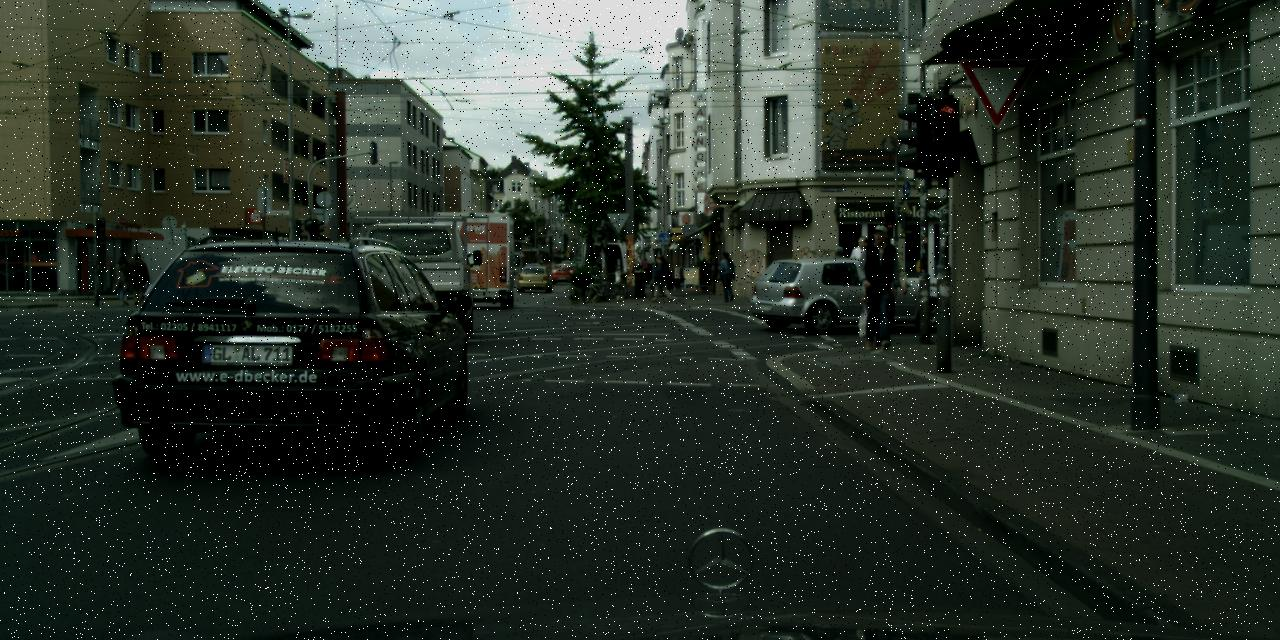ped: (854, 225, 903, 347), (846, 235, 876, 308), (127, 252, 148, 304), (718, 251, 738, 301), (114, 256, 133, 303), (651, 256, 670, 300), (707, 252, 722, 287), (641, 258, 650, 282)
